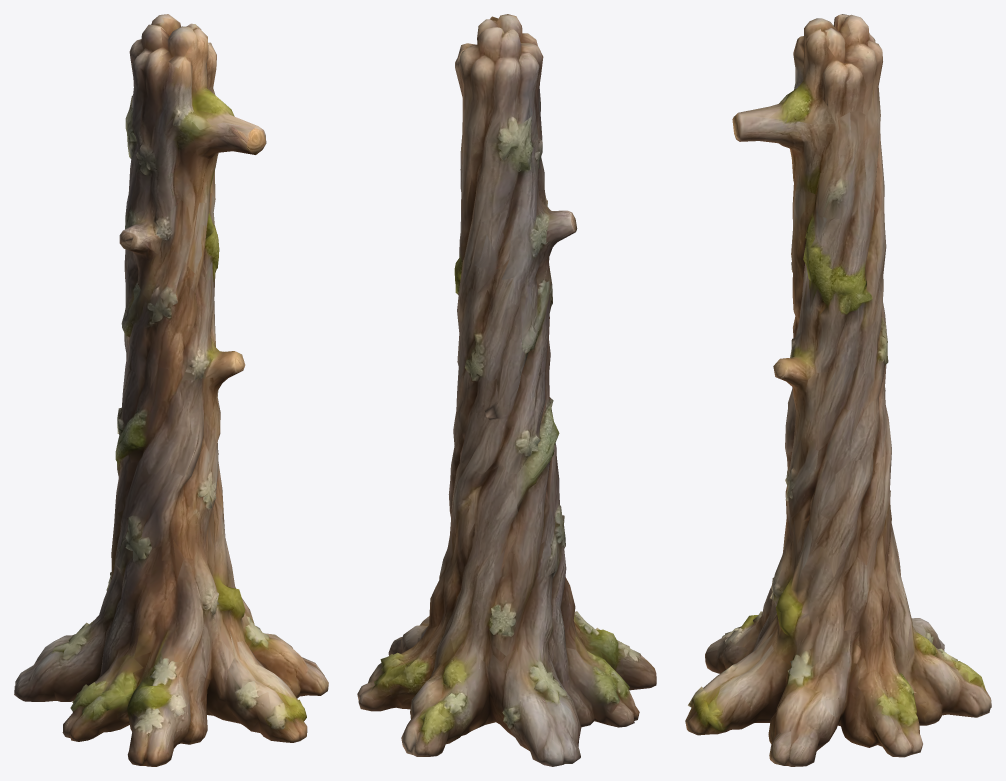
File: gorge-trunk.glb
3 renders of one model, left to right at view 1: azimuth 30°, elevation 25°; view 2: azimuth 150°, elevation 25°; view 3: azimuth 270°, elevation 25°, orthographic.
Visible parts, largest first — view 1: GorgeTrunk; view 2: GorgeTrunk; view 3: GorgeTrunk.
Boxes of the visible parts, x1,y1,x2,y2 form: GorgeTrunk: [14, 14, 328, 766]; GorgeTrunk: [357, 14, 656, 766]; GorgeTrunk: [685, 14, 991, 766].
Bounding box in the file's own units: 2.7 × 7 × 2.83.
Materials: 1 (1 with a texture image).
